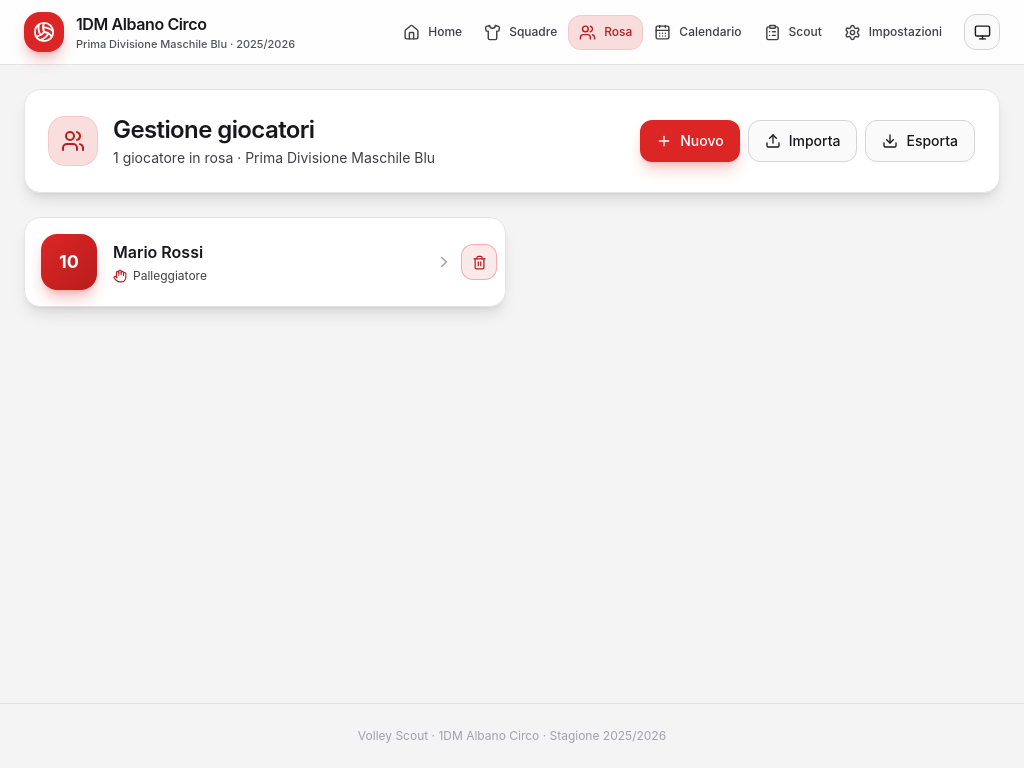
Test case: giocatori › modifica i dati anagrafici dalla pagina profilo
The width and height of the screenshot is (1024, 768).
Click the link with aria-label "Apri il profilo di Mario Rossi" at (69, 262), box [41,226,453,298]
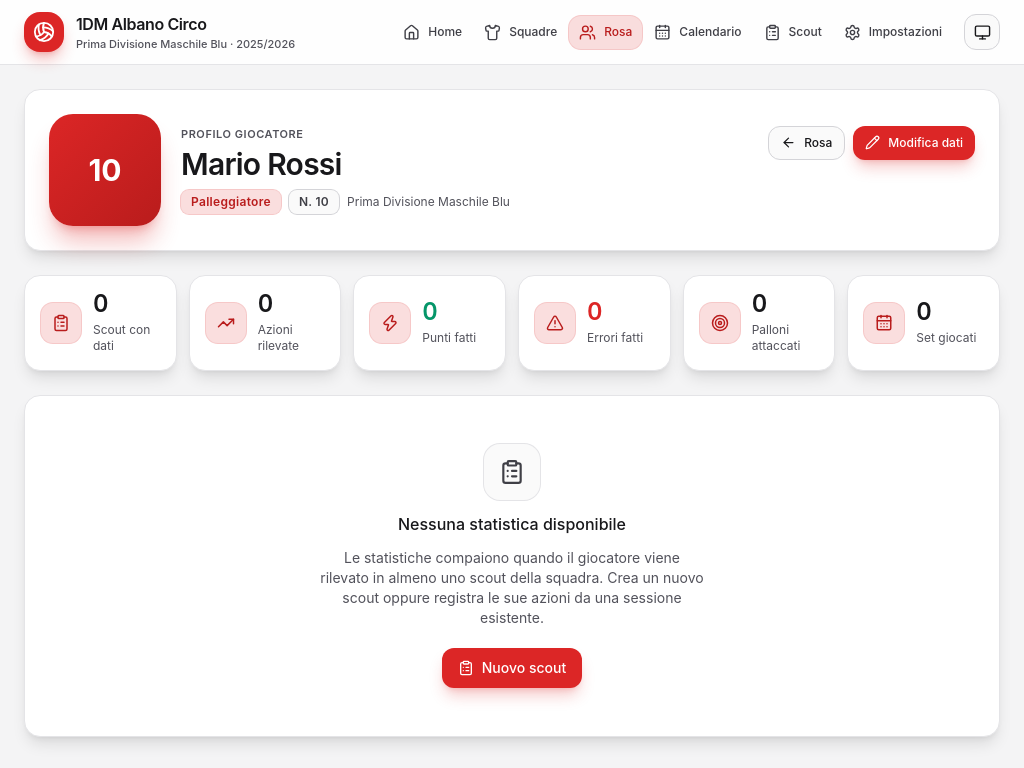
expect the heading "Mario Rossi" is shown: met, box [181,146,342,182]
Click the button "Modifica dati" at (914, 143), box [853,126,975,160]
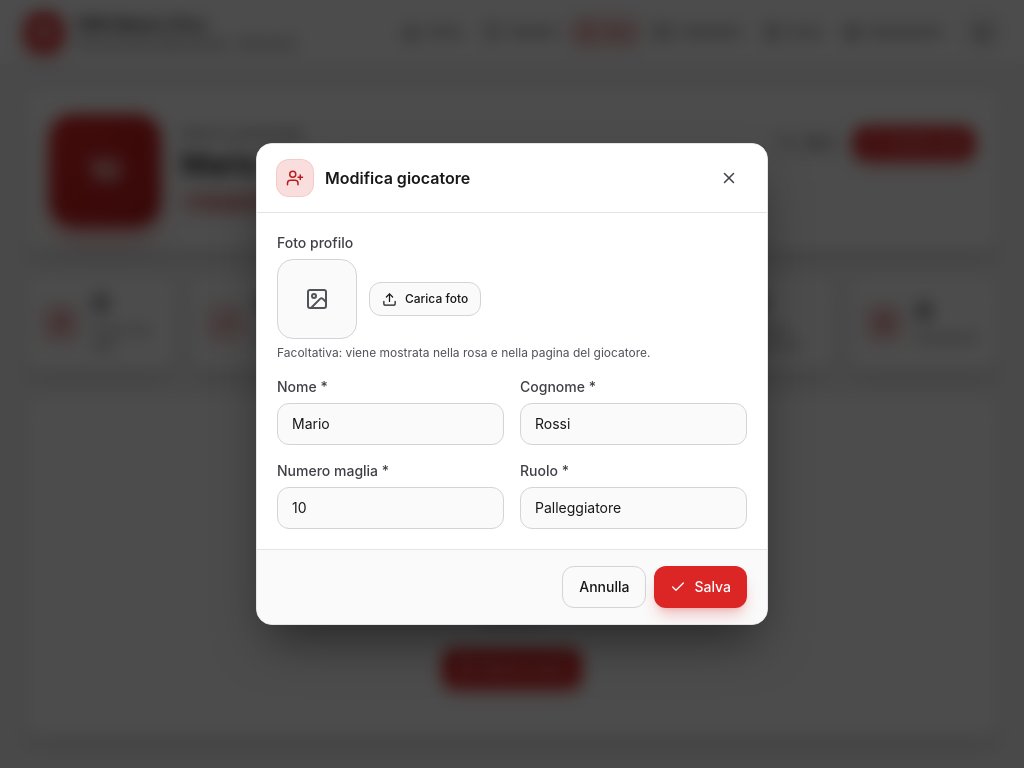
Replace the text in the field labelled "Cognome *" with "bianchi" at (634, 424), box [520,403,747,445]
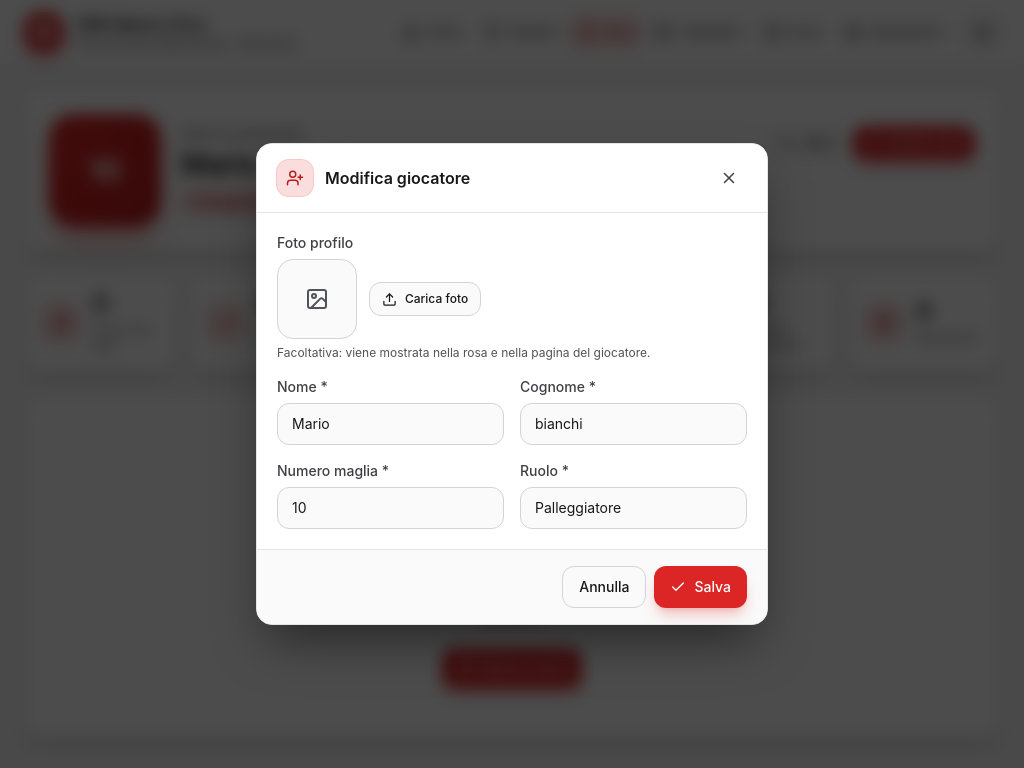
Replace the text in the number field labelled "Numero maglia *" with "12" at (390, 508), box [277,487,504,529]
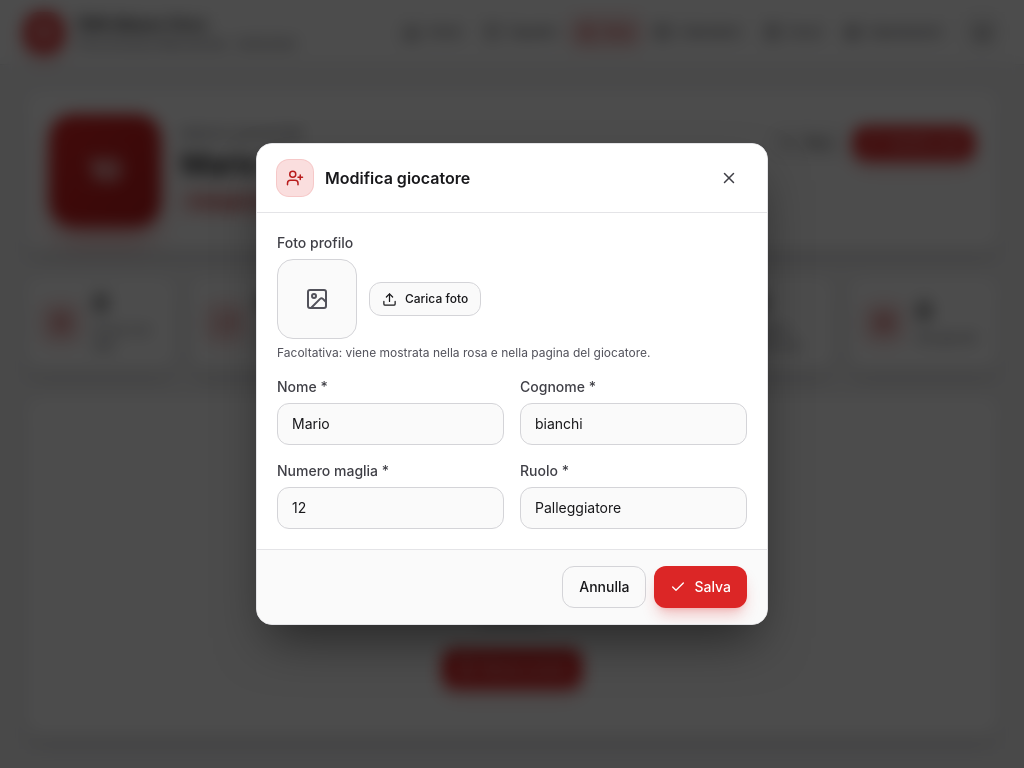
Click the button "Salva" at (701, 587), box [654,566,747,608]
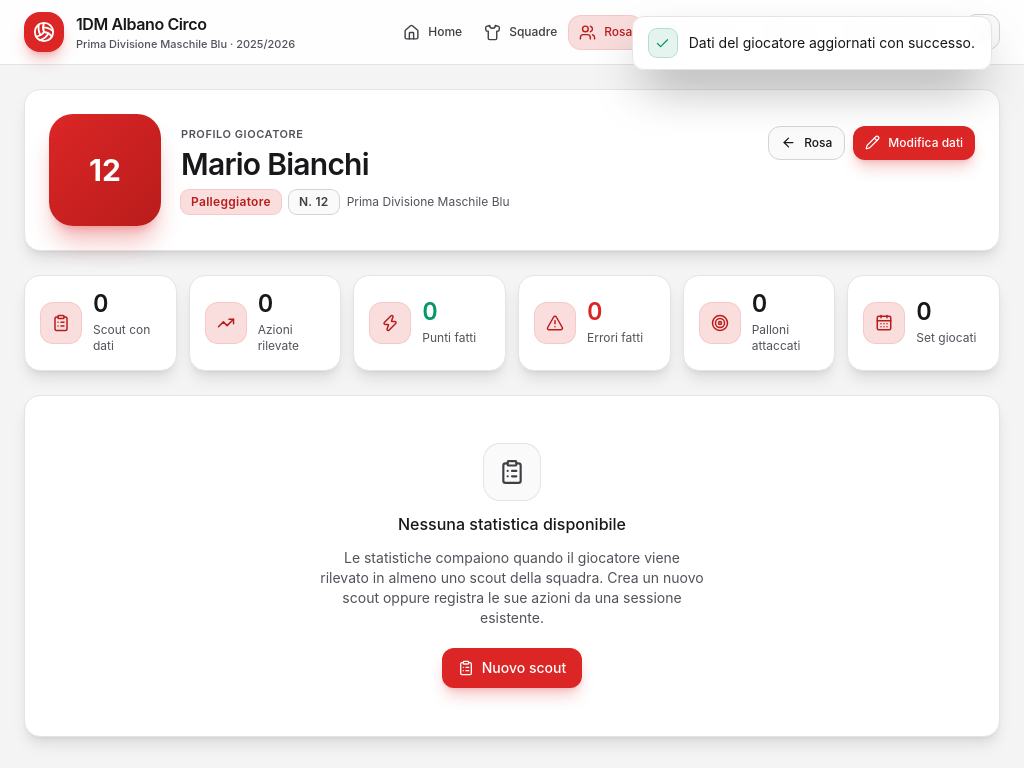
expect the heading "Mario Bianchi" is shown: met, box [181,146,369,182]
